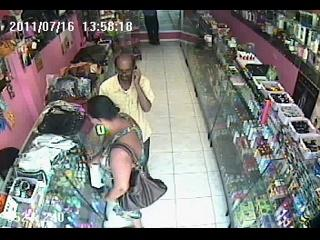Normal: (80, 96, 146, 225), (98, 53, 156, 170), (142, 10, 160, 46)
